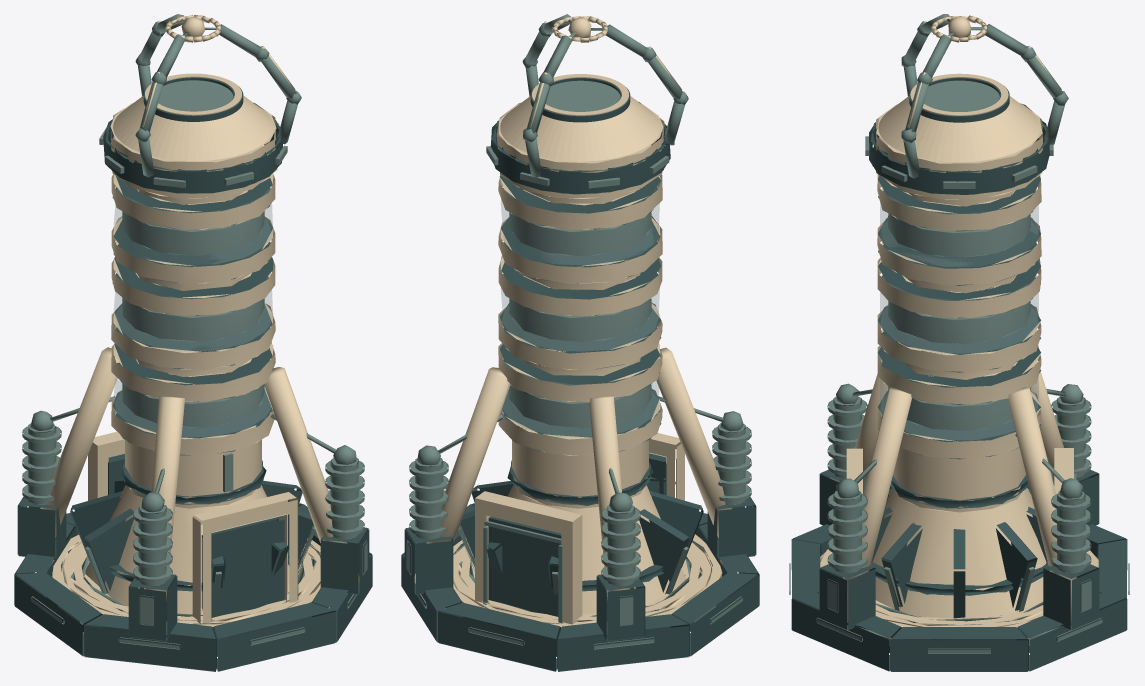
The model's file is Laser.glb.
3 renders of one model, left to right at view 1: azimuth 30°, elevation 25°; view 2: azimuth 150°, elevation 25°; view 3: azimuth 270°, elevation 25°, orthographic.
Visible parts, largest first — view 1: Laser_T3, Laser_RelayCollar; view 2: Laser_T3, Laser_RelayCollar; view 3: Laser_T3, Laser_RelayCollar.
Boxes of the visible parts, box(x1,y1,x2,y2) form: Laser_T3: box(51, 73, 328, 636); Laser_RelayCollar: box(14, 14, 372, 671); Laser_T3: box(445, 74, 722, 639); Laser_RelayCollar: box(401, 14, 759, 671); Laser_T3: box(817, 73, 1101, 645); Laser_RelayCollar: box(789, 14, 1129, 671).
Bounding box in the file's own units: 4.22 × 7.94 × 4.22.
